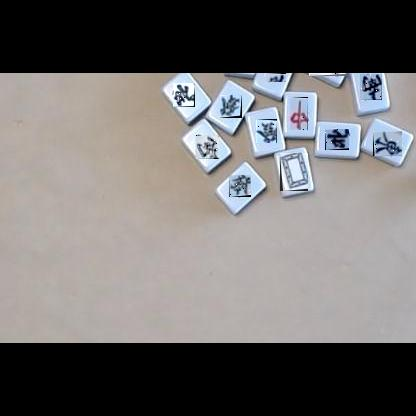1z: (373, 131, 402, 156)
2z: (195, 135, 219, 159), (360, 74, 382, 100)
4z: (173, 83, 195, 107), (325, 129, 349, 150), (265, 73, 286, 82)
5z: (280, 153, 308, 191), (309, 73, 346, 76)
6z: (220, 95, 242, 118), (256, 119, 277, 143), (229, 175, 251, 197)
7z: (290, 97, 308, 130)
